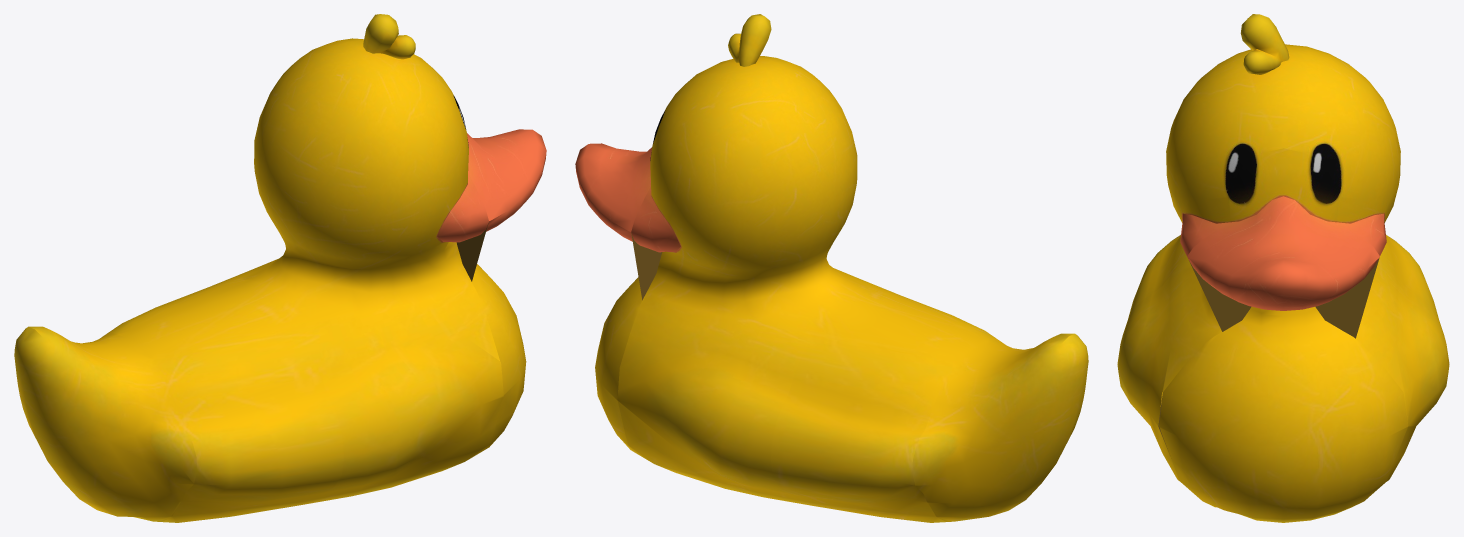
The model's file is duckFinal.fbx.
The picture shows the model from 3 angles, left to right: view 1: azimuth 30°, elevation 25°; view 2: azimuth 150°, elevation 25°; view 3: azimuth 270°, elevation 25°; orthographic projection. The views are drawn at different scales.
Parts seen in each view (by area): view 1: Duck.002, Duck.003, Duck.004, Duck.001; view 2: Duck.002, Duck.003, Duck.004, Duck.001; view 3: Duck.001, Duck.002, Duck.003.
Boxes of the visible parts, <box> form: Duck.002: <box>225,14,503,503</box>; Duck.003: <box>104,279,343,522</box>; Duck.004: <box>14,326,197,521</box>; Duck.001: <box>463,117,546,450</box>; Duck.002: <box>617,14,883,504</box>; Duck.003: <box>770,287,1001,522</box>; Duck.004: <box>912,333,1088,521</box>; Duck.001: <box>575,130,656,452</box>; Duck.001: <box>1159,148,1408,522</box>; Duck.002: <box>1117,14,1449,480</box>; Duck.003: <box>1126,236,1440,324</box>.
Bounding box in the file's own units: 2.62 × 2.14 × 1.4.
2 materials, 1 textured.
